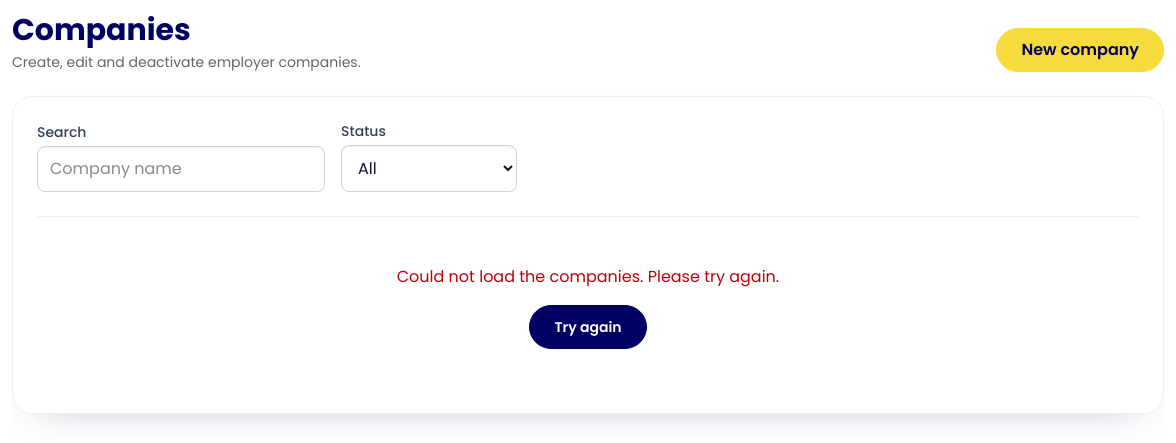
Test: Companies (operations head) › shows an error with a retry button
Check: the message "Could not load the companies. Please try again. Try again" is shown, box [397,265,779,349]
Click the button "Try again": [588, 327] box [529,305,647,349]
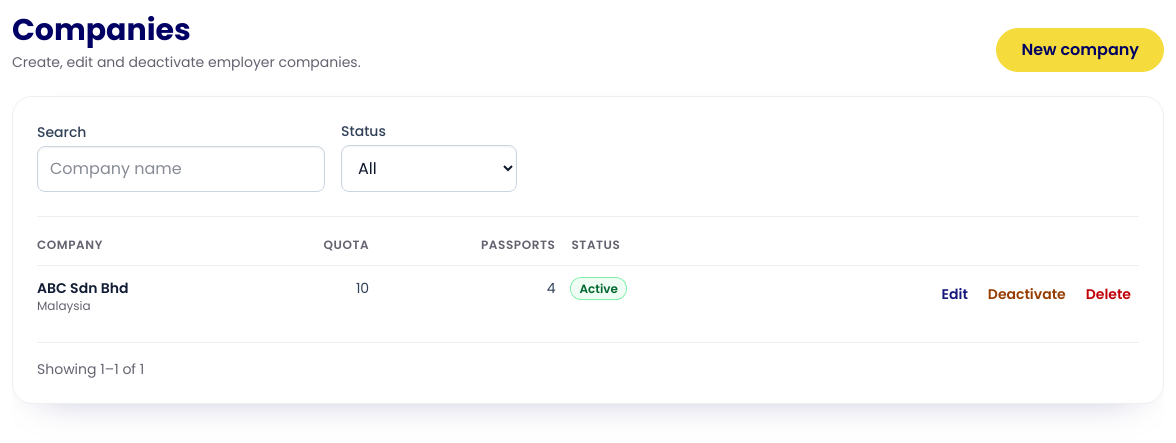
Check: the row "ABC Sdn Bhd Malaysia 10 4 Active Edit Deactivate Delete" is shown, box [37,266,1139,326]
